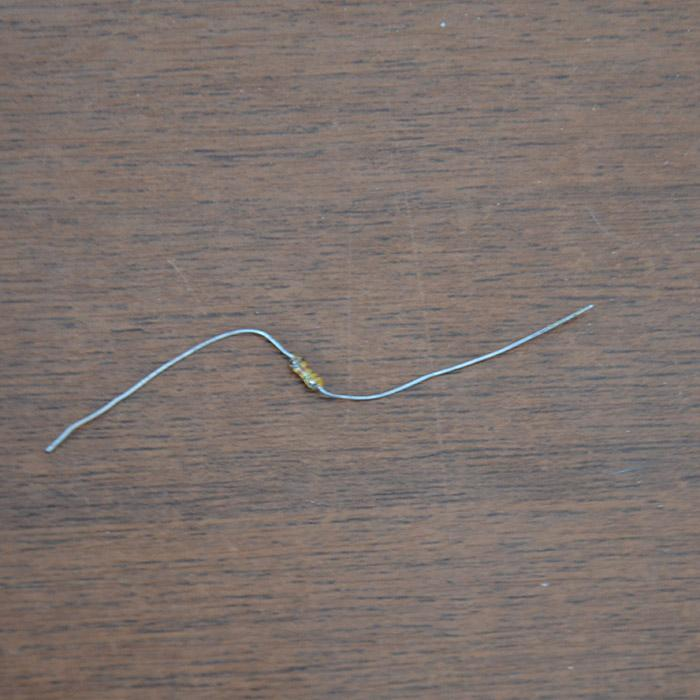resistor: (282, 355, 324, 391)
